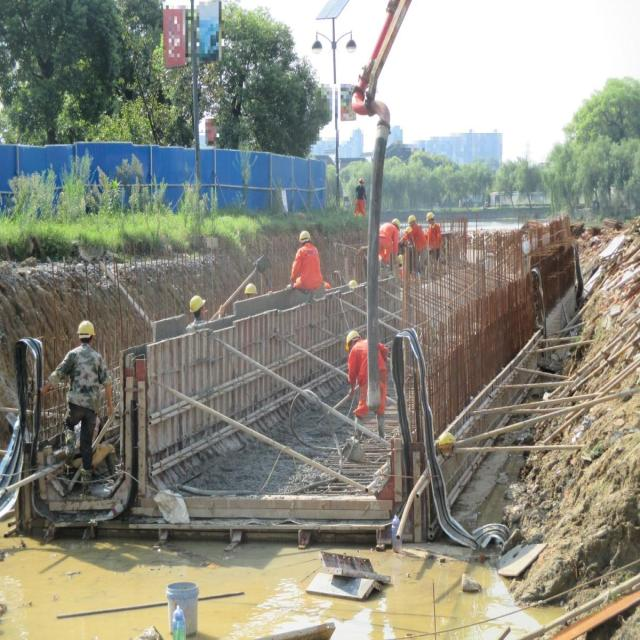truck: (343, 0, 432, 422)
